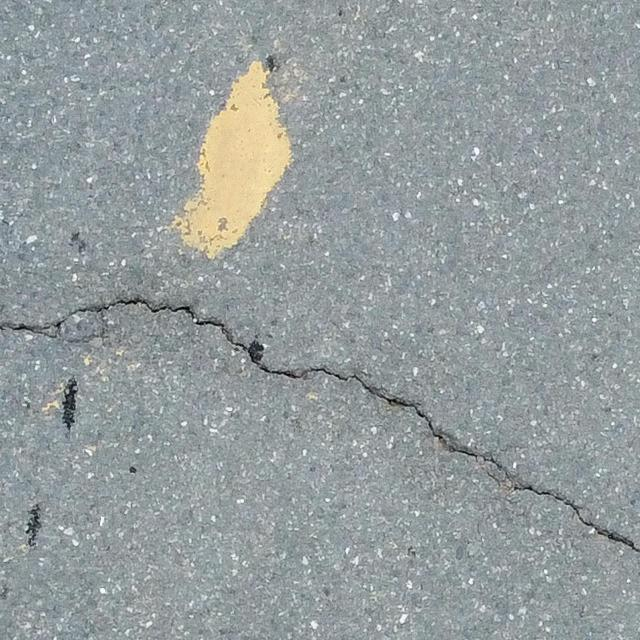TransverseCrack: (1, 298, 640, 553)
